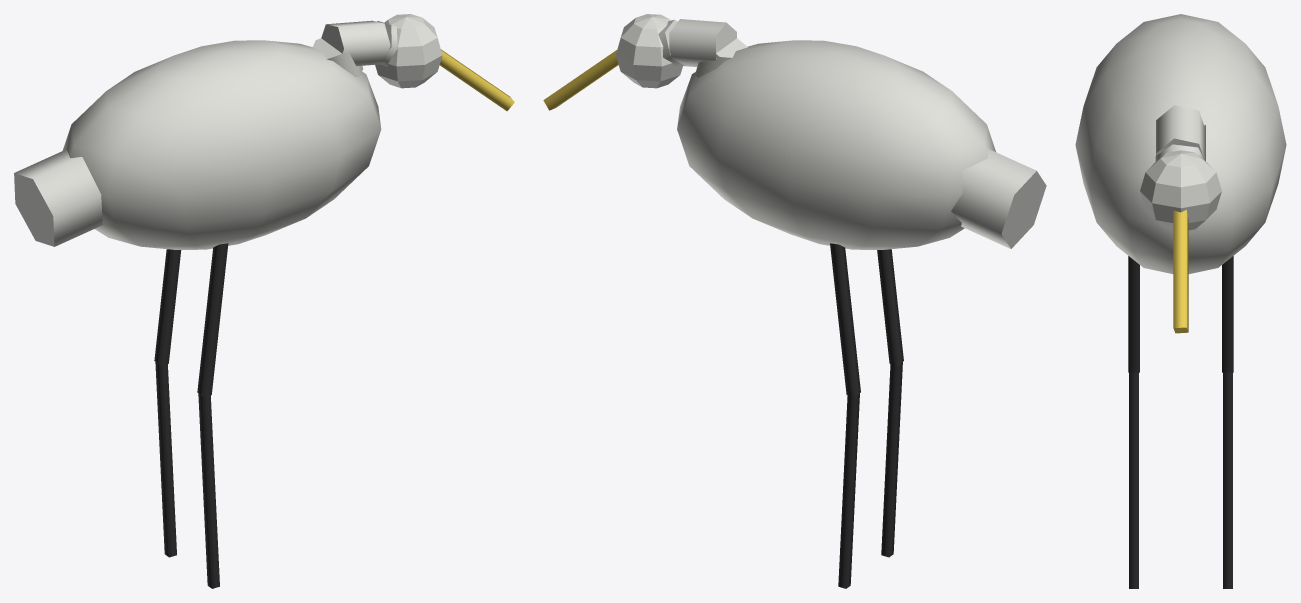
File: egret_feed.glb
3 renders of one model, left to right at view 1: azimuth 30°, elevation 25°; view 2: azimuth 150°, elevation 25°; view 3: azimuth 270°, elevation 25°, orthographic. The views are drawn at different scales.
Visible parts, largest first — view 1: egret_2; view 2: egret_2; view 3: egret_2.
Part boxes in pixels (left/top/right/bottom): egret_2: left=14, top=14, right=514, bottom=588; egret_2: left=543, top=14, right=1046, bottom=588; egret_2: left=1075, top=14, right=1286, bottom=588.
Bounding box in the file's own units: 0.5218 × 0.5252 × 0.18.
